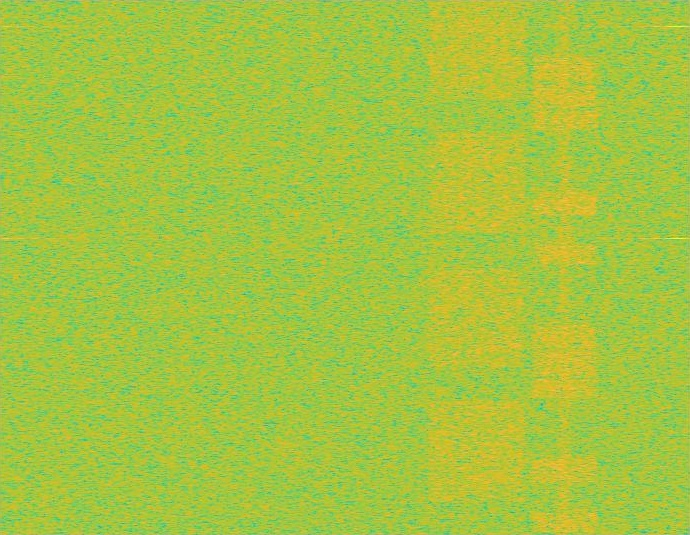5G: (425, 0, 529, 534)
DSSS: (557, 0, 573, 534)
LTE: (530, 0, 599, 534)
Radar: (670, 0, 684, 534)
